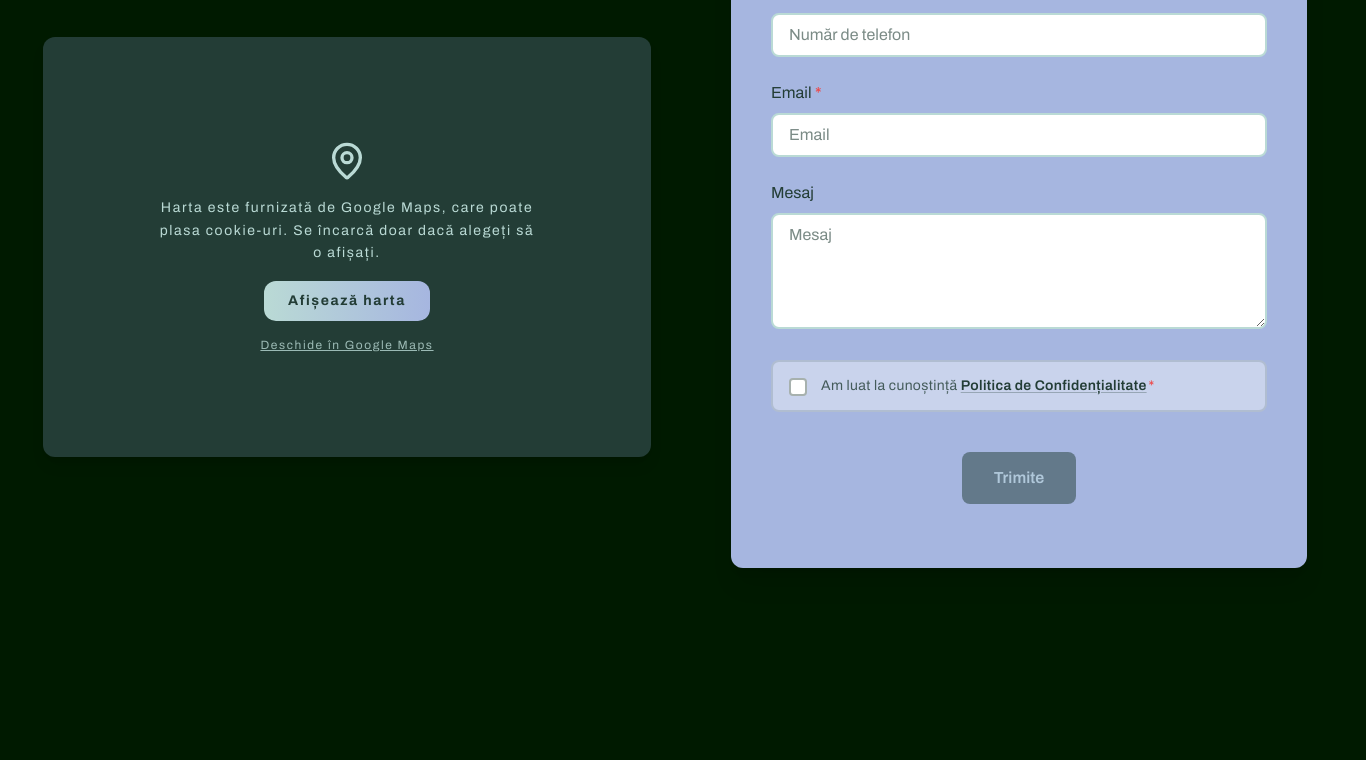
Test: ContactSection › submit button becomes enabled after checking the consent checkbox
(page scrolled)
Check: the button "Trimite" is disabled, box [962,452,1076,504]
Click the checkbox labelled "Am luat la cunoștință Politica de Confidențialitate *" at (1019, 386), box [771,360,1267,412]
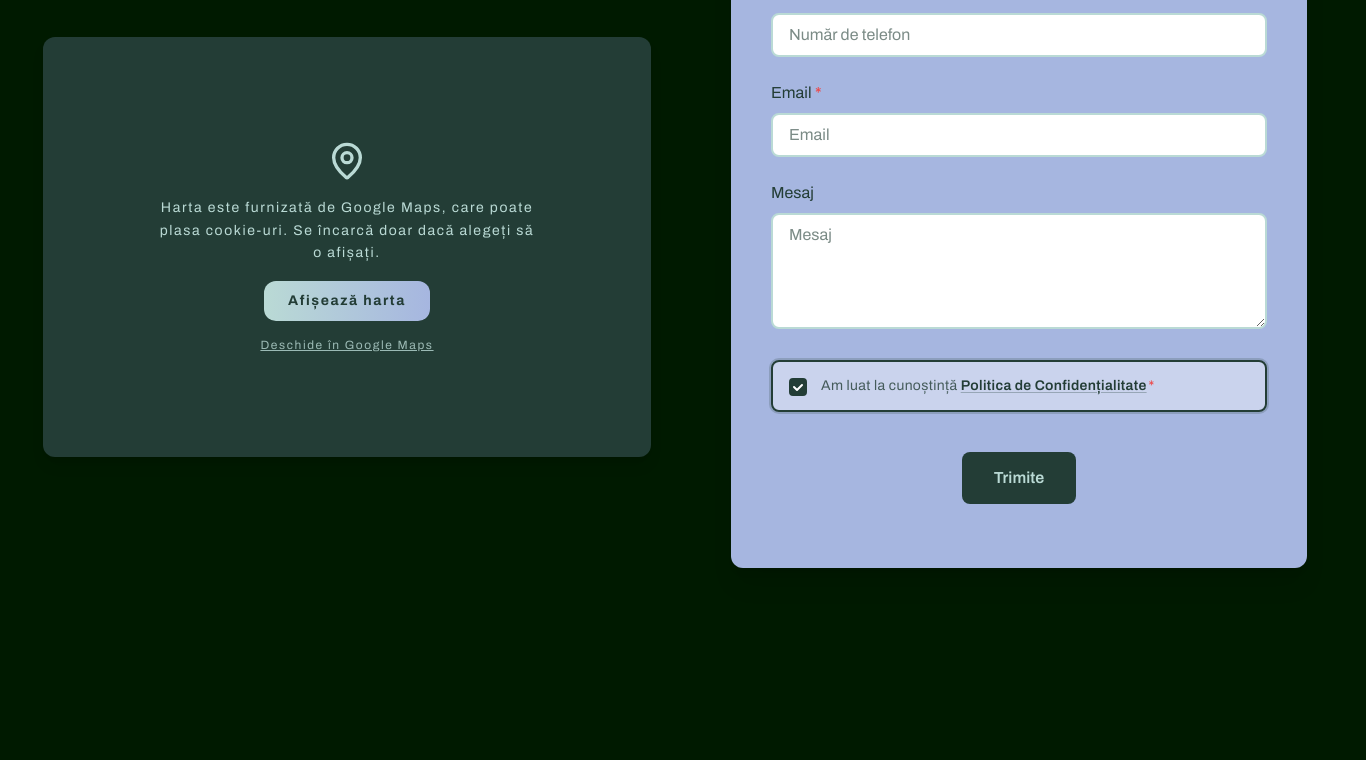
Check: the checkbox labelled "Am luat la cunoștință Politica de Confidențialitate *" is checked, box [771,360,1267,412]
Check: the button "Trimite" is enabled, box [962,452,1076,504]
